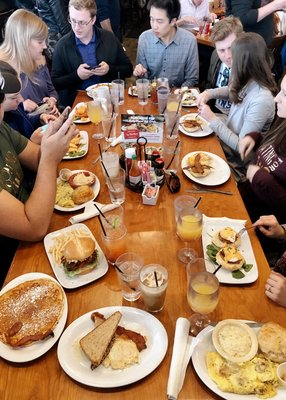pizza: (186, 258, 220, 315), (99, 144, 126, 206), (114, 252, 144, 302), (139, 263, 169, 313), (174, 195, 203, 241), (136, 79, 150, 105), (111, 79, 125, 104)
sandwich: (166, 316, 191, 400)
soup: (0, 272, 66, 348)
sushi: (212, 319, 259, 366)
